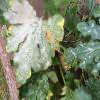Squash Powdery mildew leaf: (1, 0, 65, 85)
